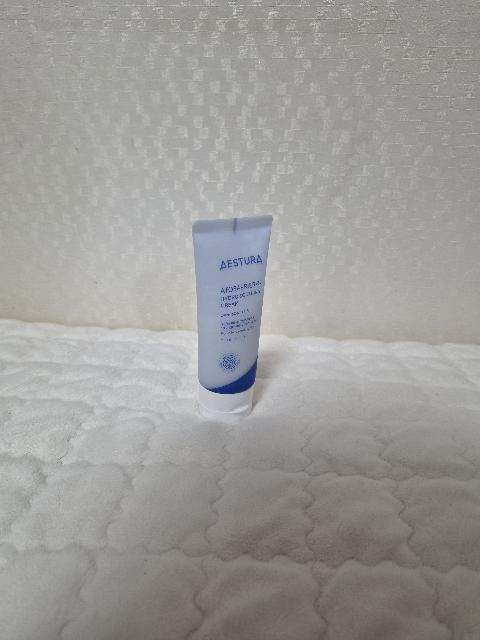handcream: (192, 215, 273, 423)
